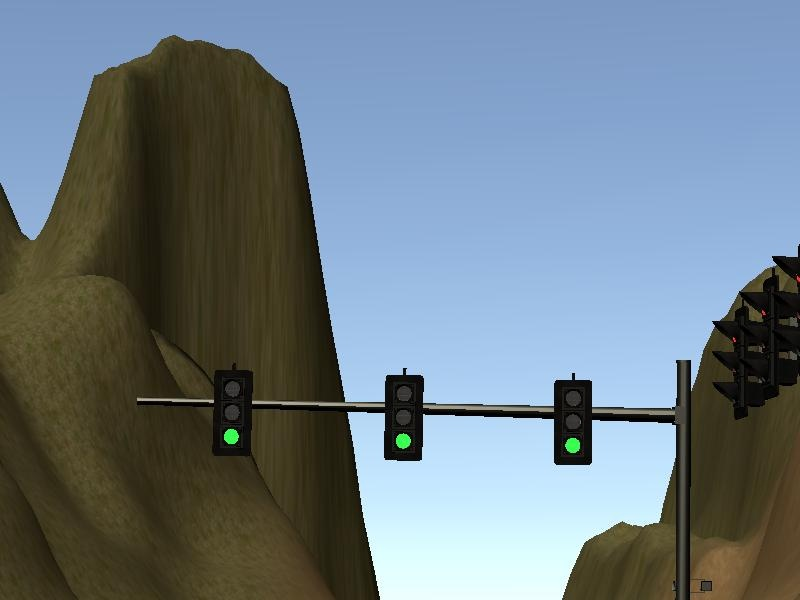green: (386, 375, 422, 456), (216, 371, 250, 456), (556, 379, 589, 459)
